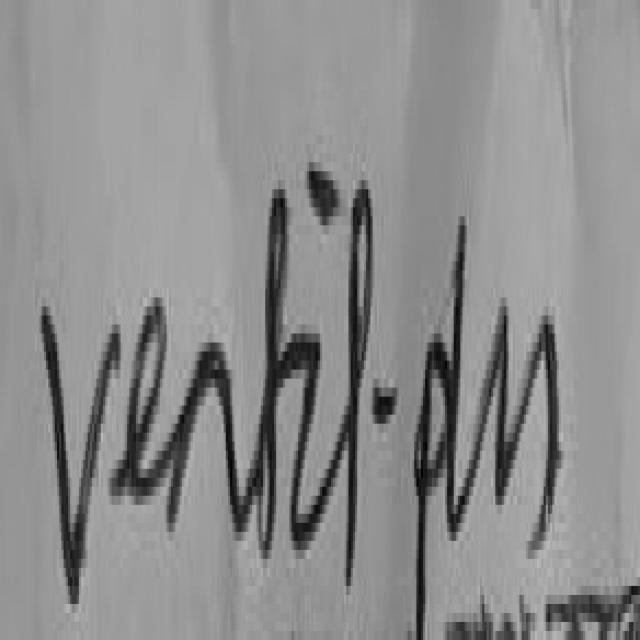V: (43, 306, 121, 599)
e: (112, 297, 173, 500)
i: (292, 346, 320, 545), (309, 176, 340, 221)
l: (294, 180, 375, 581), (447, 212, 466, 552)
p: (416, 325, 455, 635)
r: (167, 343, 252, 527)
s: (521, 325, 563, 554)
t: (248, 186, 300, 568)
u: (492, 306, 523, 515)
